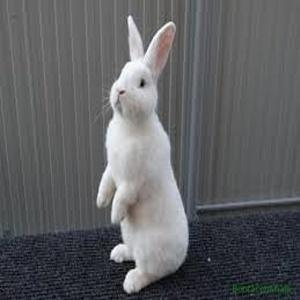rabbit: (97, 17, 189, 296)
